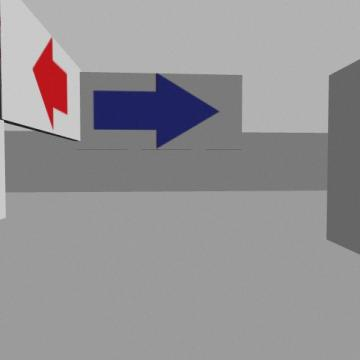blue_right: (93, 74, 218, 147)
red_left: (33, 38, 67, 129)
